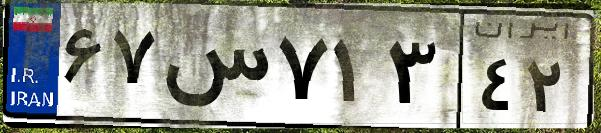1: (330, 28, 385, 110)
2: (525, 38, 570, 115)
3: (385, 28, 445, 110)
4: (475, 38, 525, 113)
6: (57, 26, 110, 100)
7: (270, 28, 330, 110), (110, 28, 158, 98)
س: (158, 20, 270, 120)
